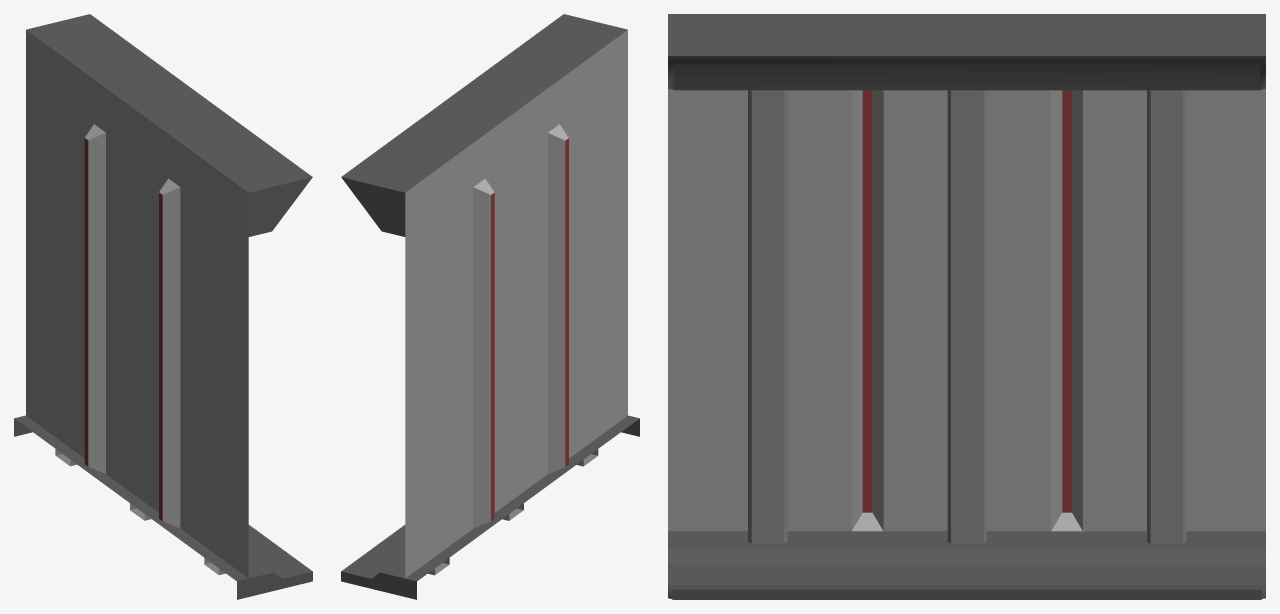
Rendered from SM_Module_8.fbx.
3 views of the same model, side by side, from view 1: azimuth 30°, elevation 25°; view 2: azimuth 150°, elevation 25°; view 3: azimuth 270°, elevation 25° (orthographic). The views are drawn at different scales.
Parts seen in each view (by area): view 1: SM_Module_02; view 2: SM_Module_02; view 3: SM_Module_02.
Boxes of the visible parts, <box> form: SM_Module_02: <box>14,14,312,599</box>; SM_Module_02: <box>341,14,639,599</box>; SM_Module_02: <box>668,14,1265,599</box>.
Bounding box in the file's own units: 122 × 601 × 599.
